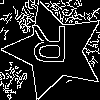R: (30, 25, 69, 71)
